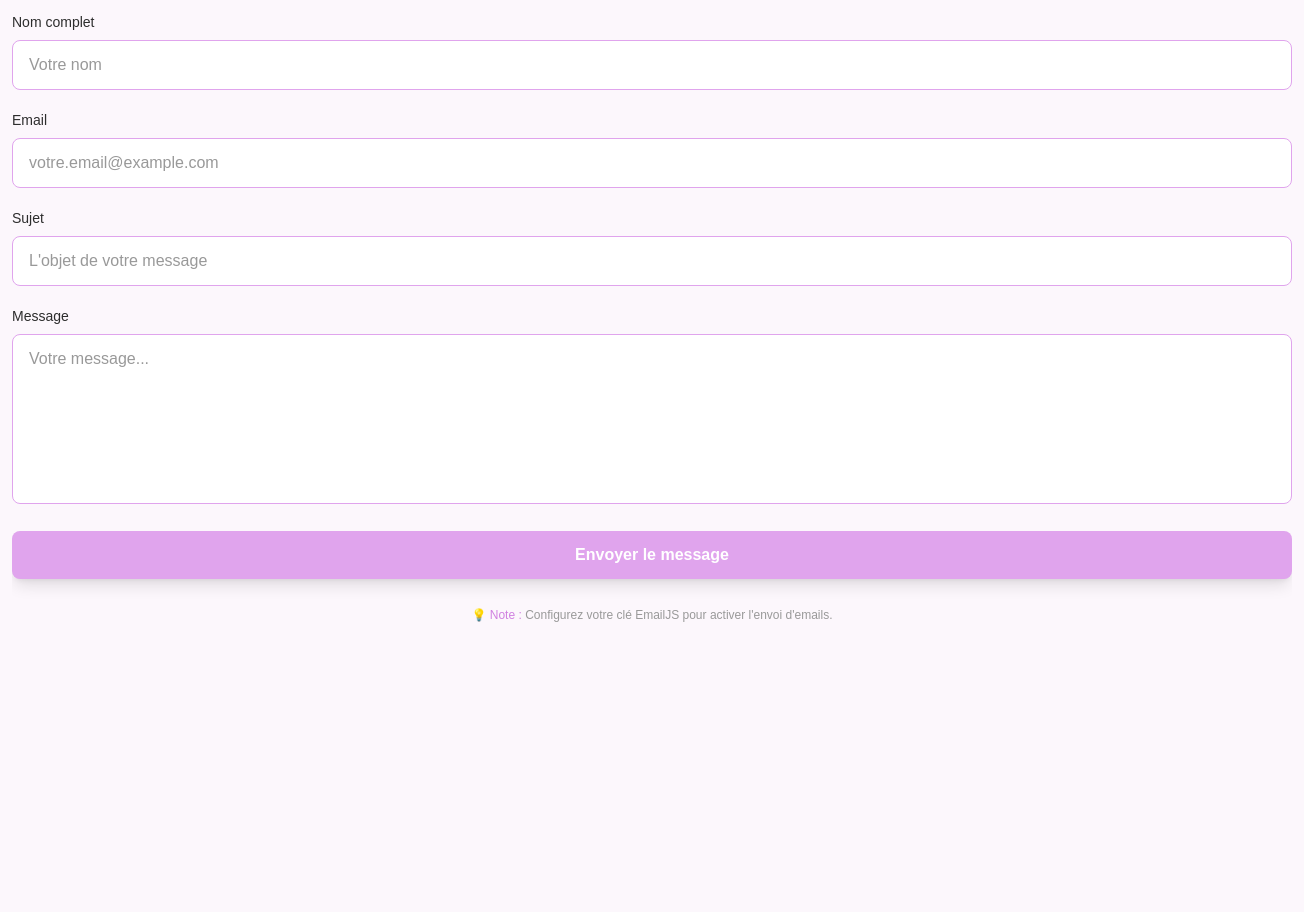
Test: ContactForm › should show success message on valid submission
Type "John Doe" into the field labelled "Nom complet".
click(652, 65); type("John Doe")  # box [12,40,1292,90]
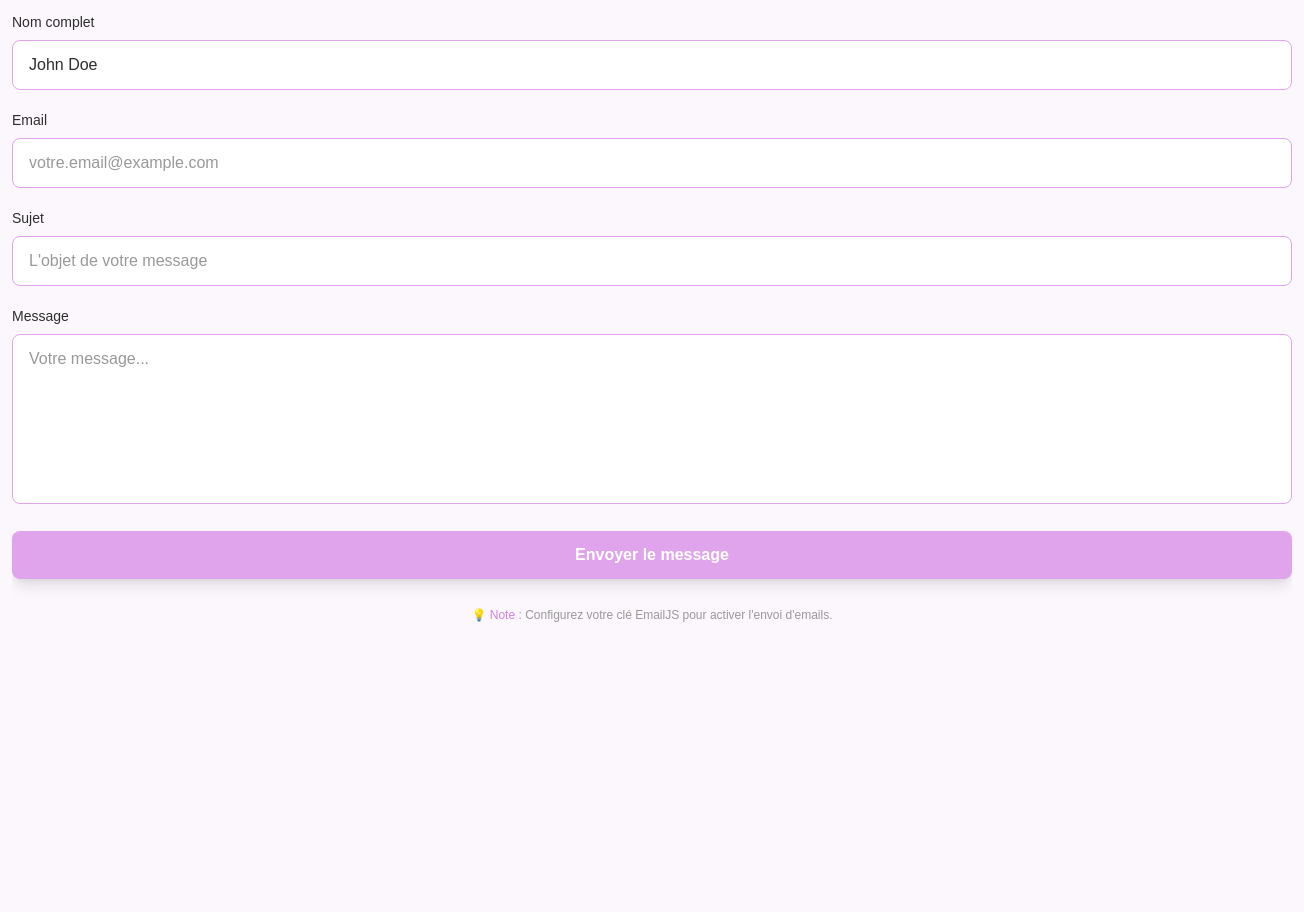
Type "john@example.com" into the field labelled "Email".
click(652, 163); type("john@example.com")  # box [12,138,1292,188]
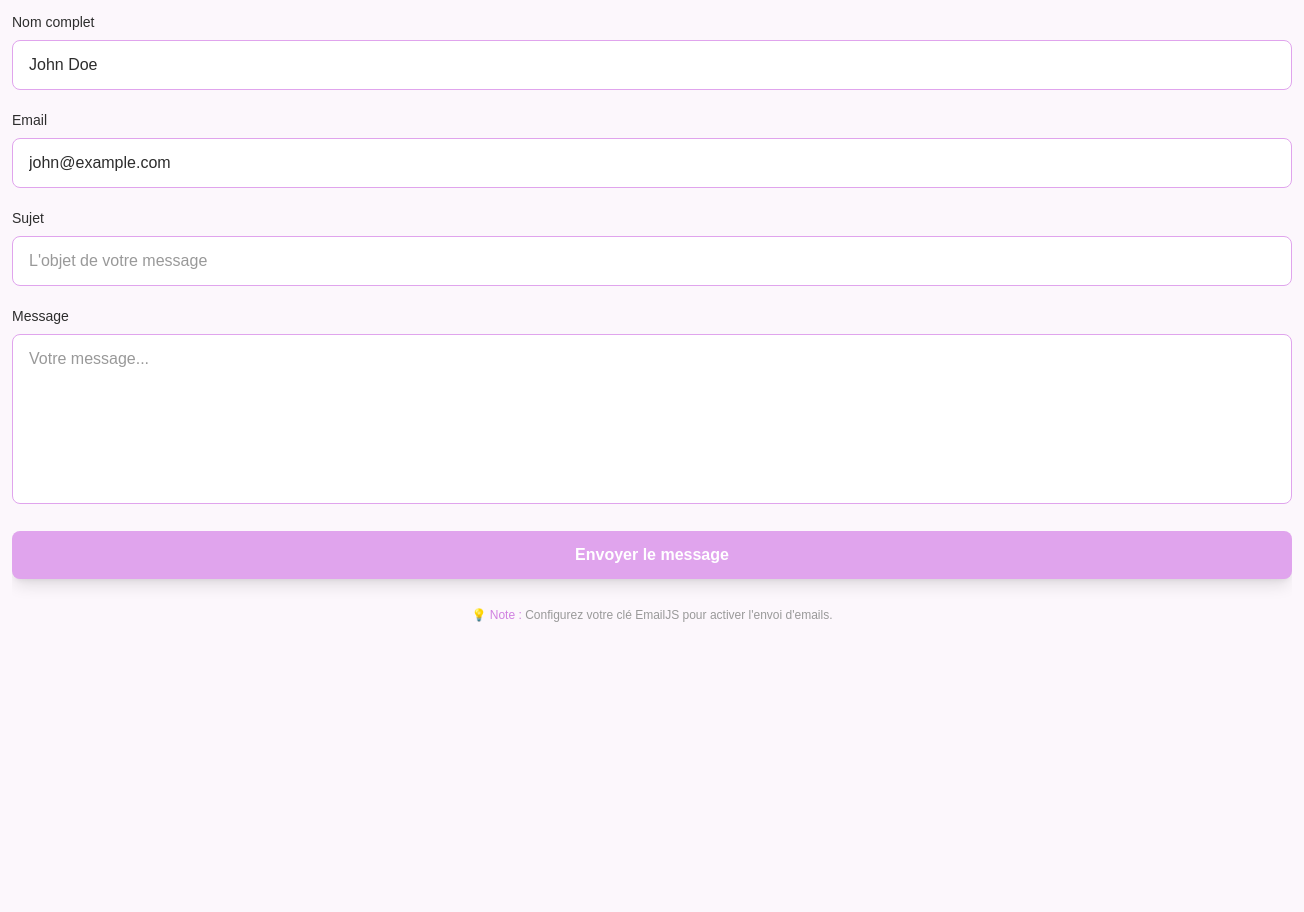
Type "Test Subject" into the field labelled "Sujet".
click(652, 261); type("Test Subject")  # box [12,236,1292,286]
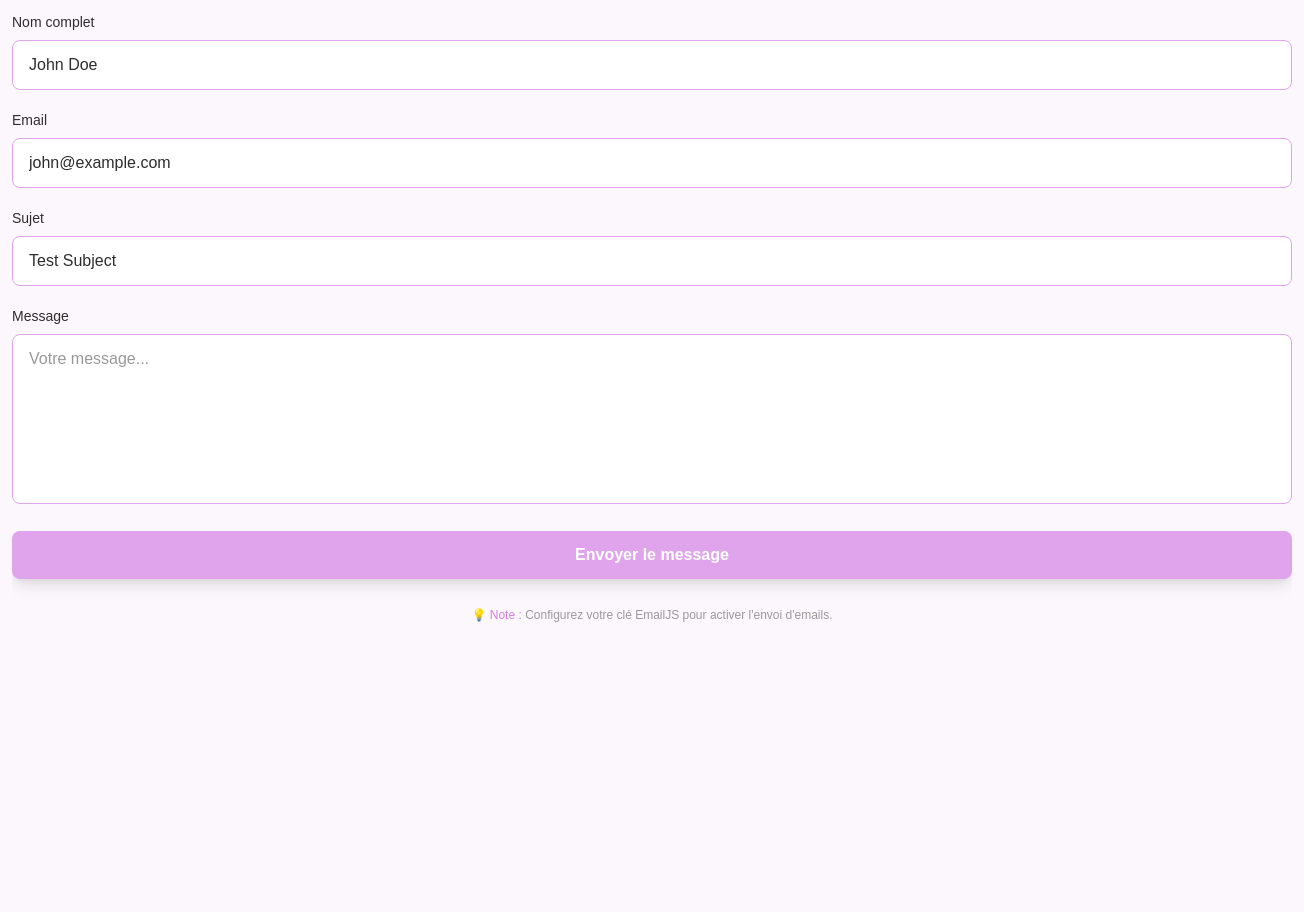
Type "Test message content" into the text box labelled "Message".
click(652, 419); type("Test message content")  # box [12,334,1292,504]
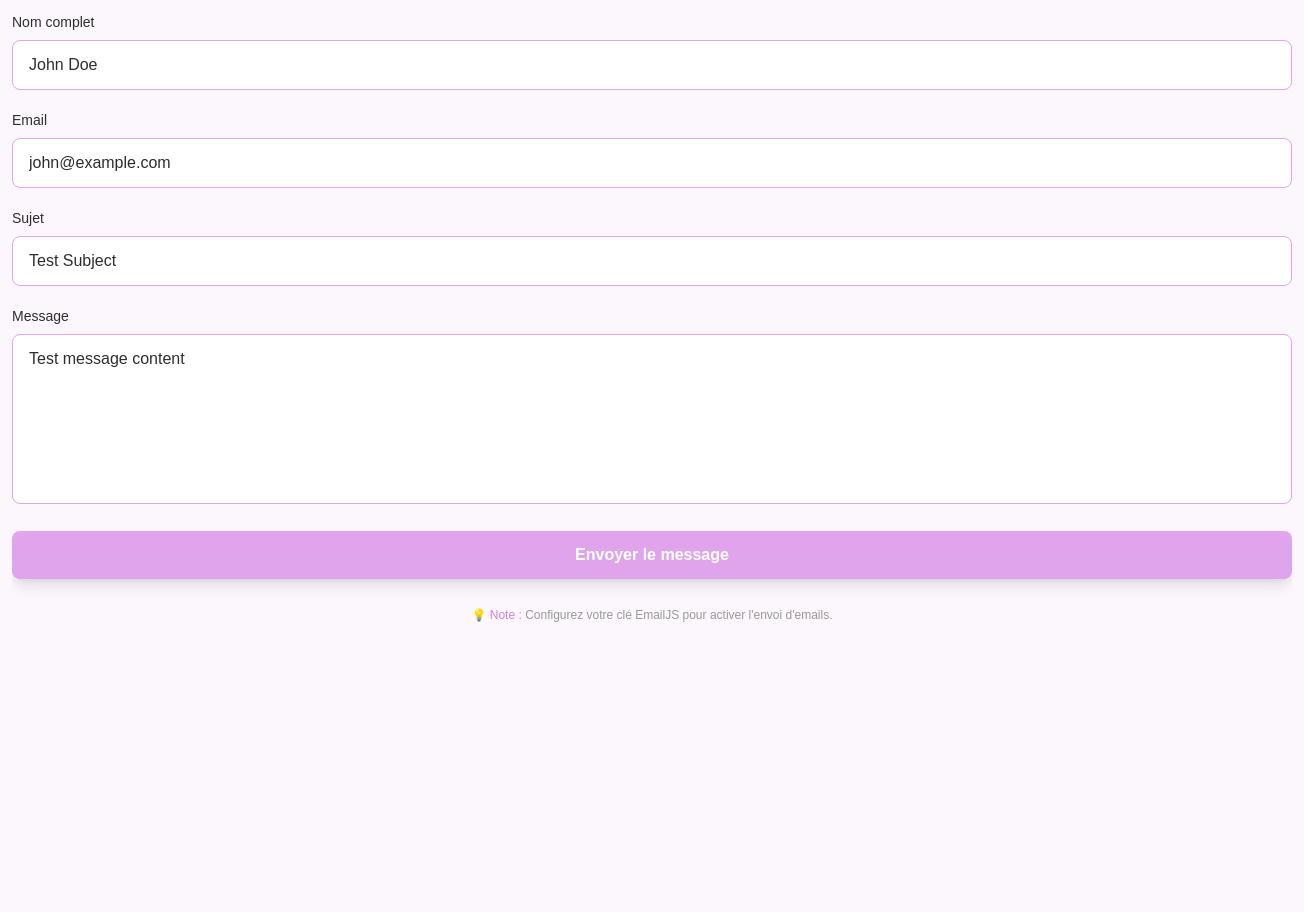
Click the button "Envoyer le message".
click(652, 555)  # box [12,531,1292,579]
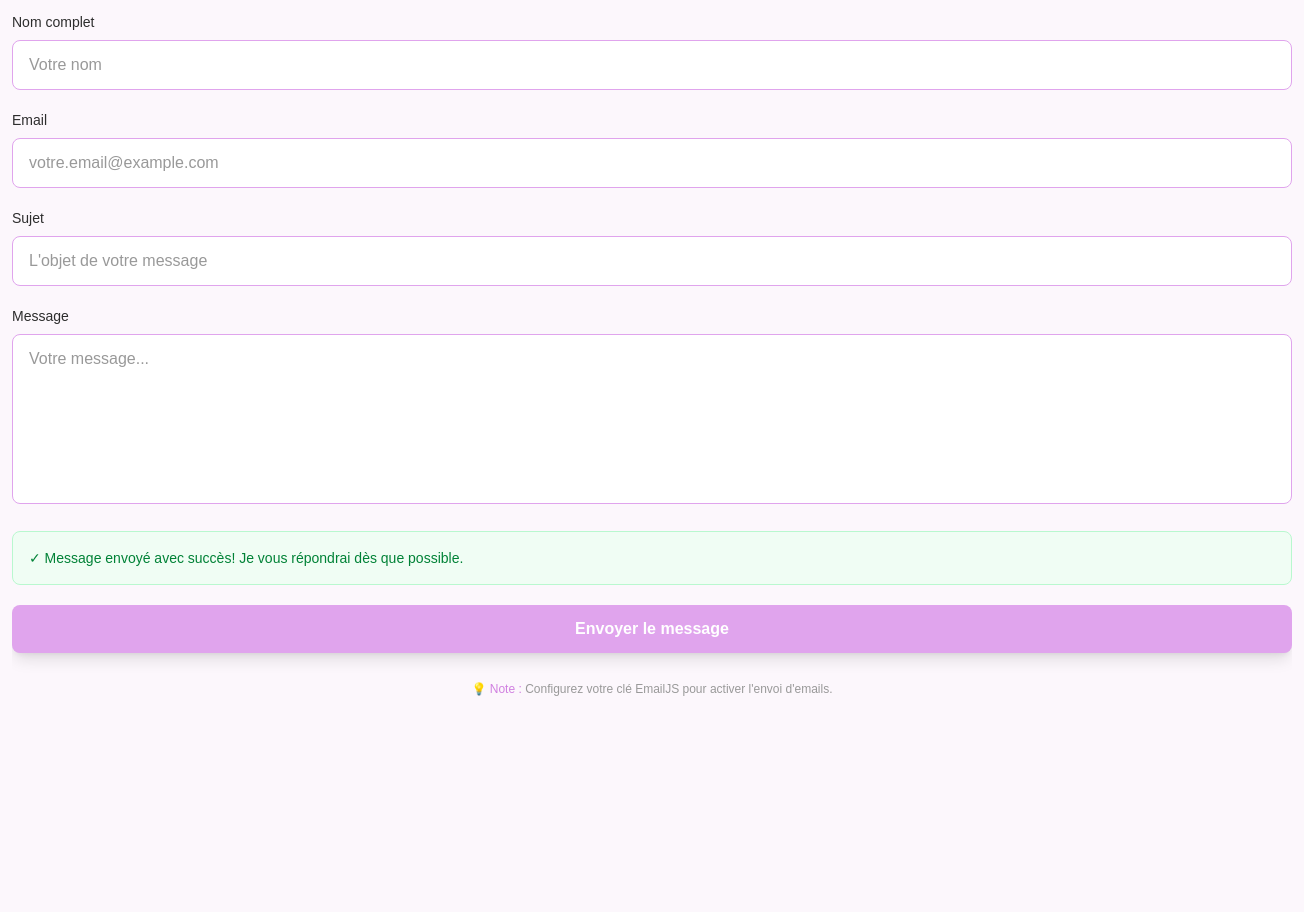
expect the text "Message envoyé avec succès" is shown: met, box [29,550,463,566]
